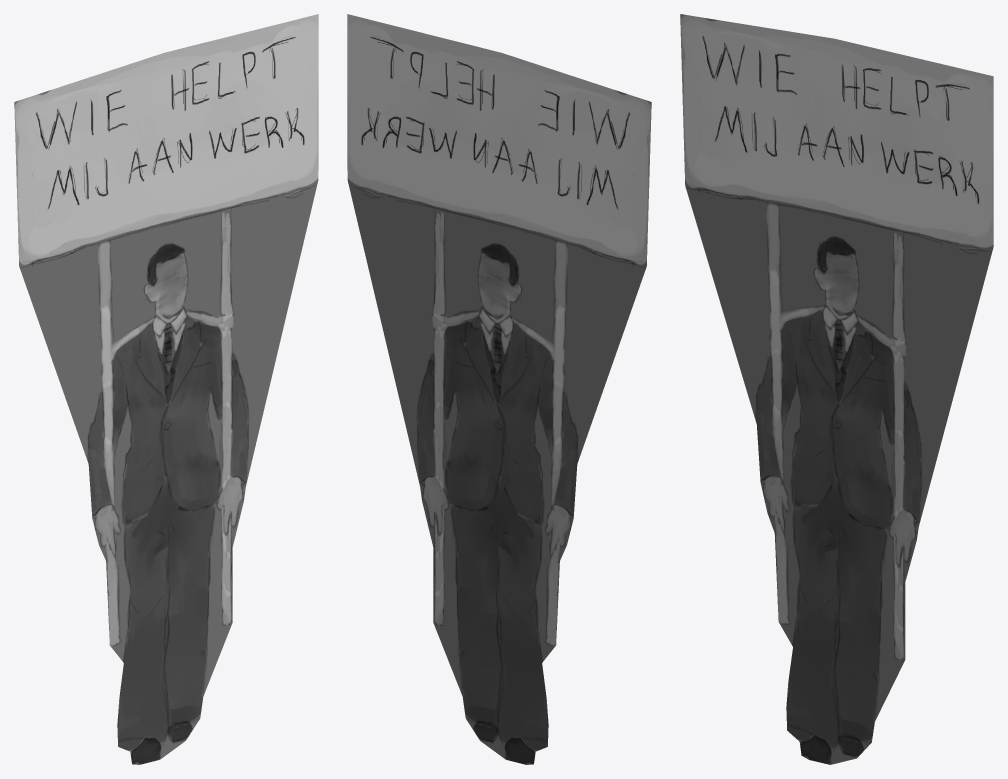
Rendered from Depression_Man5.fbx.
The picture shows the model from 3 angles, left to right: view 1: azimuth 30°, elevation 25°; view 2: azimuth 150°, elevation 25°; view 3: azimuth 330°, elevation 25°; orthographic projection. The views are drawn at different scales.
Parts seen in each view (by area): view 1: pCube1; view 2: pCube1; view 3: pCube1.
Boxes of the visible parts, left/top/right/bottom form: pCube1: left=14, top=14, right=318, bottom=764; pCube1: left=347, top=14, right=651, bottom=764; pCube1: left=680, top=14, right=993, bottom=764.
Bounding box in the file's own units: 0.0348 × 0.0771 × 0.
Materials: 1 (1 with a texture image).
